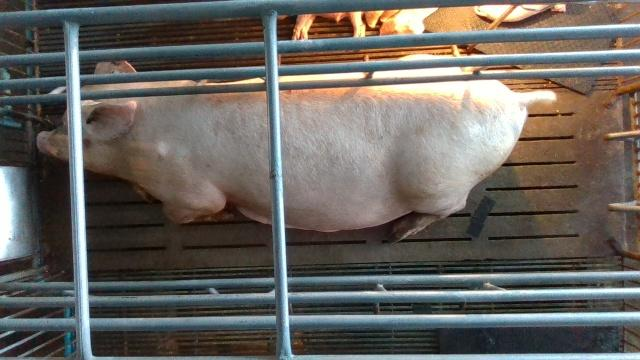piglet: (281, 11, 366, 38), (475, 3, 567, 25), (367, 8, 438, 35)
sow-sleep: (35, 53, 557, 241)
